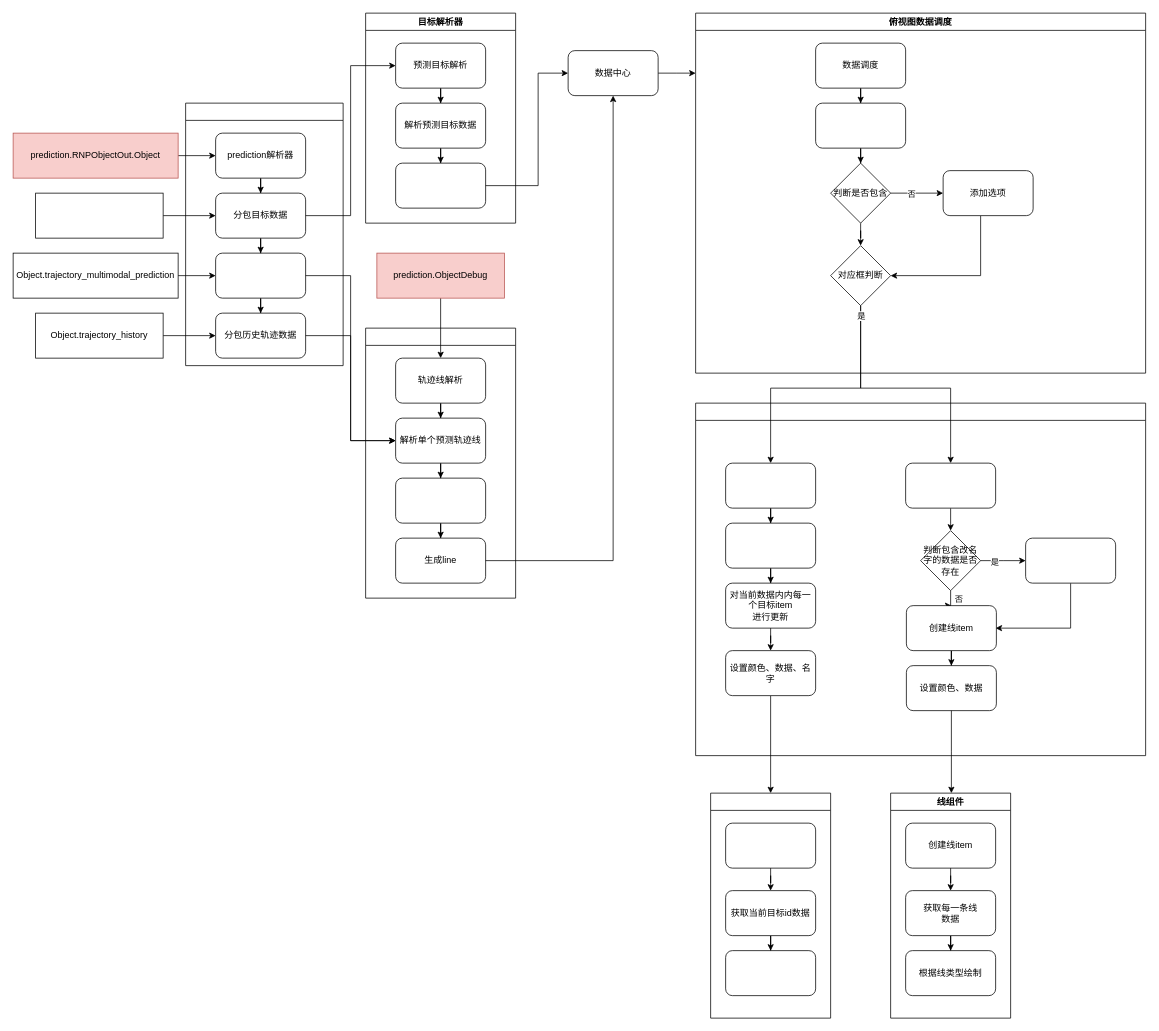
Some shapes in this 1159 by 1031 pixel diagram are drawn without their labels. Each missing label, with the box of its shape:
Object.object_info: (35, 192, 163, 238)
俯视图窗口: (695, 402, 1146, 756)
分包预测轨迹数据: (215, 252, 306, 298)
创建目标item: (725, 822, 816, 868)
数据解析: (185, 102, 343, 366)
更新目标数据: (725, 462, 816, 508)
更新线数据: (905, 462, 996, 508)
根据目标类型绘制: (725, 950, 816, 996)
清空item: (1025, 537, 1116, 583)
生成目标: (395, 162, 486, 208)
目标组件: (710, 792, 831, 1018)
线解析器: (365, 327, 516, 598)
获取所有setter: (815, 102, 906, 148)
获取目标id: (725, 522, 816, 568)
解析线类型: (395, 477, 486, 523)
